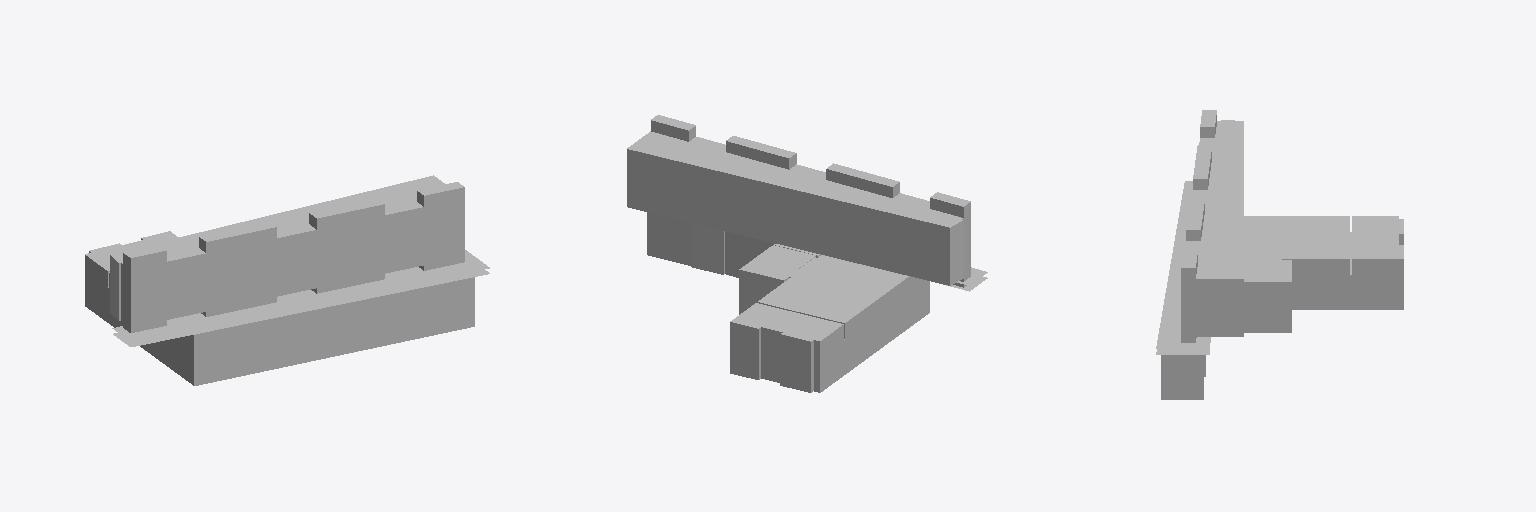
The model's file is blinteresting_model_for_eric.obj.
3 renders of one model, left to right at view 1: azimuth 30°, elevation 25°; view 2: azimuth 150°, elevation 25°; view 3: azimuth 270°, elevation 25°, orthographic.
Visible parts, largest first — view 1: Mesh1 Model, Mesh2 Model; view 2: Mesh1 Model; view 3: Mesh1 Model, Mesh2 Model.
Part boxes in pixels (bbox=[...]): Mesh1 Model: bbox=[85, 175, 474, 385]; Mesh2 Model: bbox=[112, 250, 489, 346]; Mesh1 Model: bbox=[627, 115, 970, 392]; Mesh1 Model: bbox=[1161, 110, 1403, 399]; Mesh2 Model: bbox=[1156, 181, 1210, 354].
Size of the model in its own units: 967 by 354 by 601.